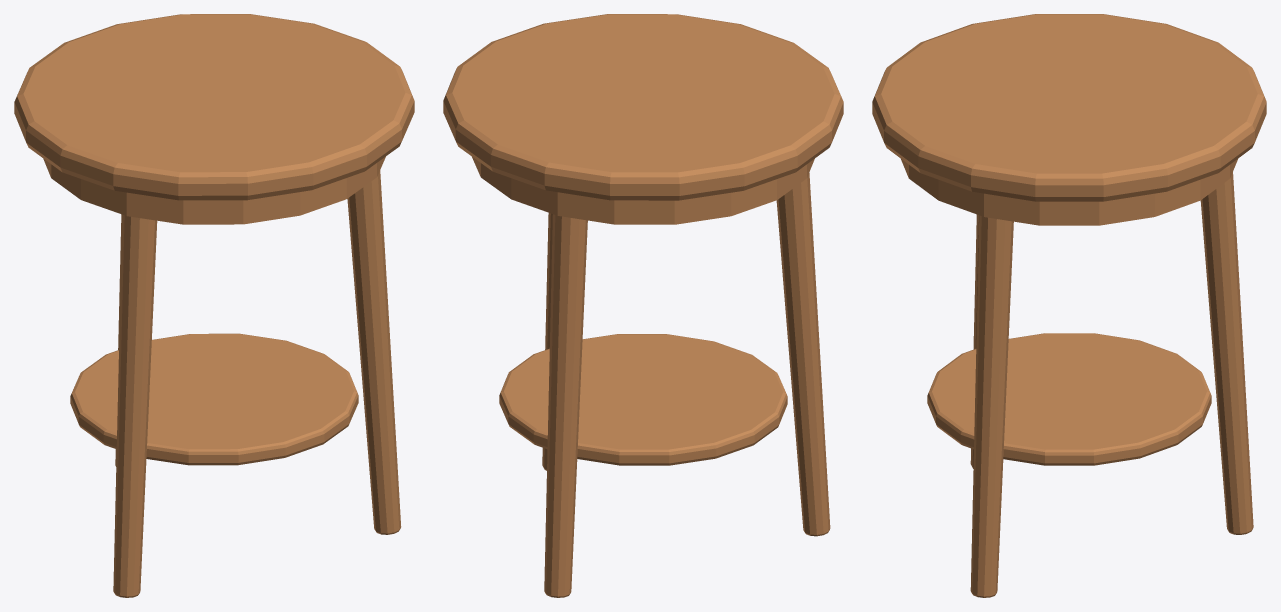
The model's file is hh_cat_side_table_v.glb.
3 renders of one model, left to right at view 1: azimuth 30°, elevation 25°; view 2: azimuth 150°, elevation 25°; view 3: azimuth 270°, elevation 25°, orthographic.
Parts seen in each view (by area): view 1: top, shelf, leg.001, leg.002, apron; view 2: top, shelf, leg, leg.001, apron, leg.002; view 3: top, shelf, leg.002, leg, apron.
Boxes of the visible parts, left/top/right/bottom form: top: left=14, top=14, right=414, bottom=200; shelf: left=70, top=333, right=358, bottom=465; leg.001: left=113, top=214, right=157, bottom=597; leg.002: left=347, top=170, right=401, bottom=534; apron: left=43, top=156, right=385, bottom=224; top: left=443, top=14, right=843, bottom=200; shelf: left=499, top=334, right=787, bottom=465; leg: left=544, top=214, right=587, bottom=597; leg.001: left=776, top=173, right=830, bottom=536; apron: left=472, top=157, right=814, bottom=224; leg.002: left=542, top=213, right=552, bottom=470; top: left=872, top=14, right=1266, bottom=201; shelf: left=927, top=333, right=1211, bottom=465; leg.002: left=970, top=215, right=1013, bottom=597; leg: left=1200, top=172, right=1253, bottom=534; apron: left=901, top=159, right=1237, bottom=225.
Bounding box in the file's own units: 0.45 × 0.55 × 0.45.
